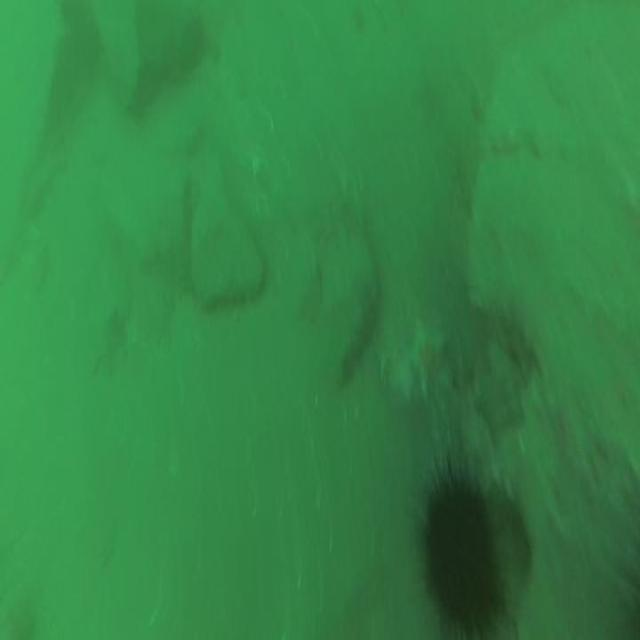echinus: (420, 468, 504, 640)
starfish: (405, 314, 458, 400)
